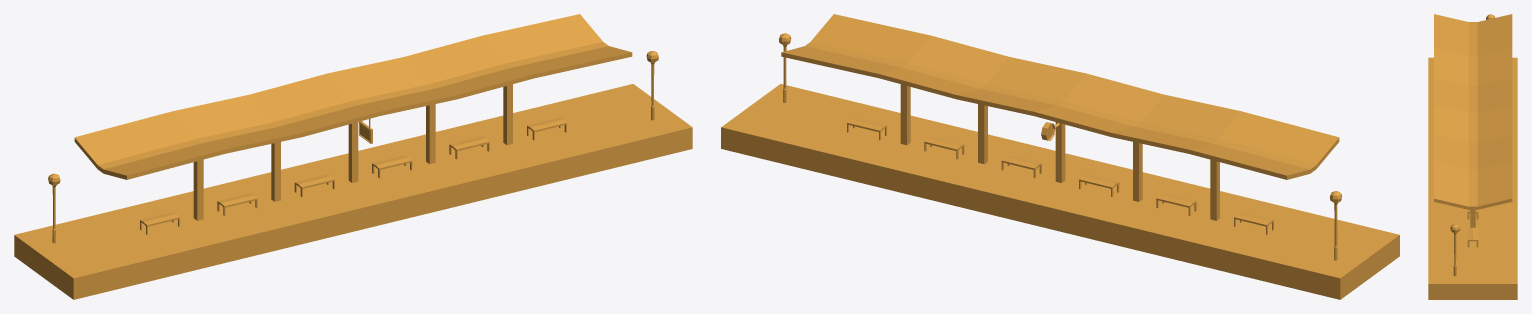
The model's file is train-station-platform.glb.
3 renders of one model, left to right at view 1: azimuth 30°, elevation 25°; view 2: azimuth 150°, elevation 25°; view 3: azimuth 270°, elevation 25°, orthographic. The views are drawn at different scales.
Parts seen in each view (by area): view 1: train-station-platform; view 2: train-station-platform; view 3: train-station-platform.
Part boxes in pixels (bbox=[...]): train-station-platform: bbox=[14, 14, 692, 299]; train-station-platform: bbox=[721, 14, 1399, 299]; train-station-platform: bbox=[1428, 14, 1517, 299].
Bounding box in the file's own units: 30.04 × 5.1 × 5.
